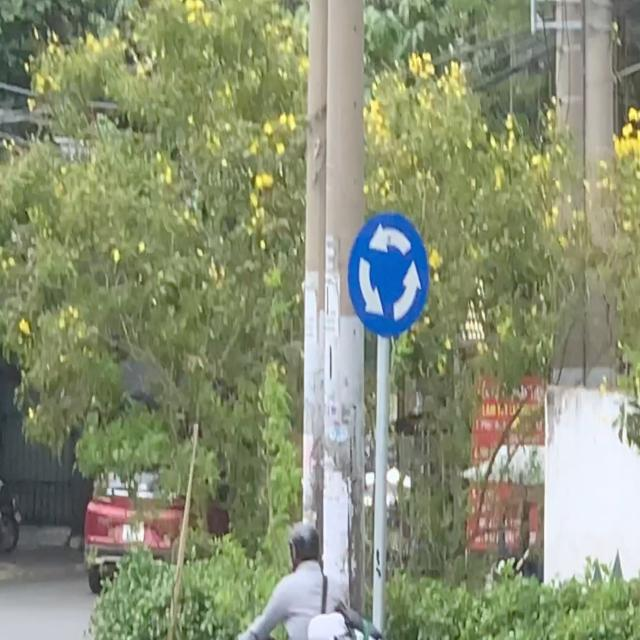Vong xuyen: (346, 210, 430, 339)
